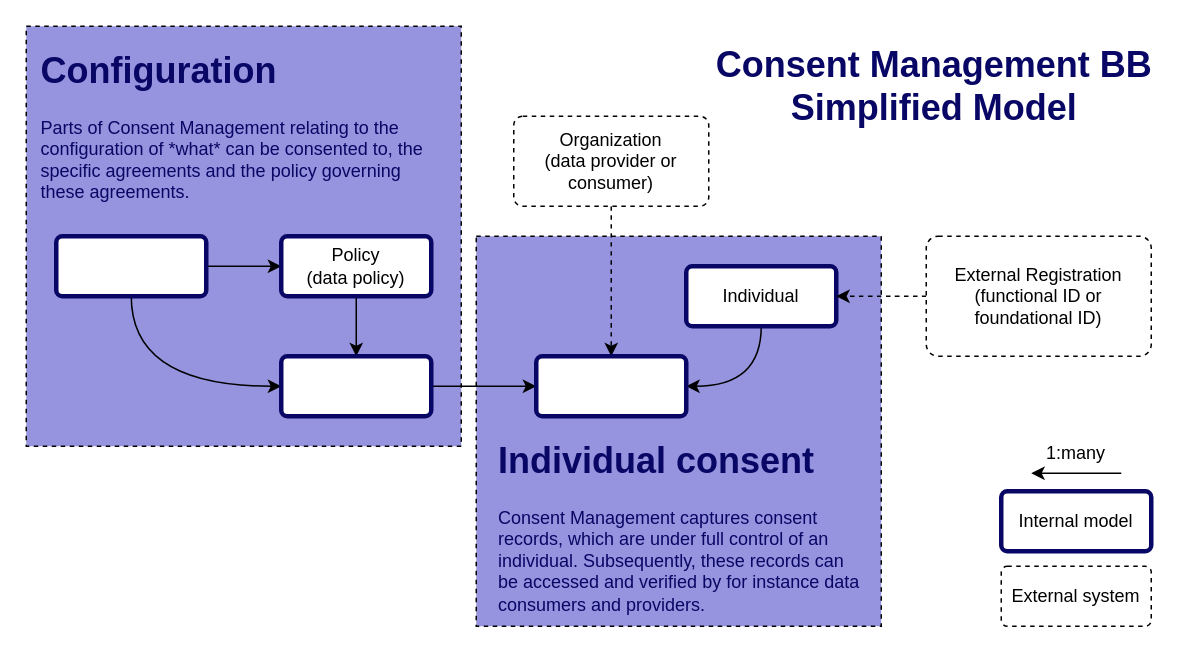
Some shapes in this 1179 by 653 pixel diagram are drawn without their labels. Here are the shapes that lost their labels. From the top down, the centre of each, then its label:
(x=130, y=265): Organization (data controller)
(x=355, y=385): Consent Agreement
(x=610, y=385): Consent Record
